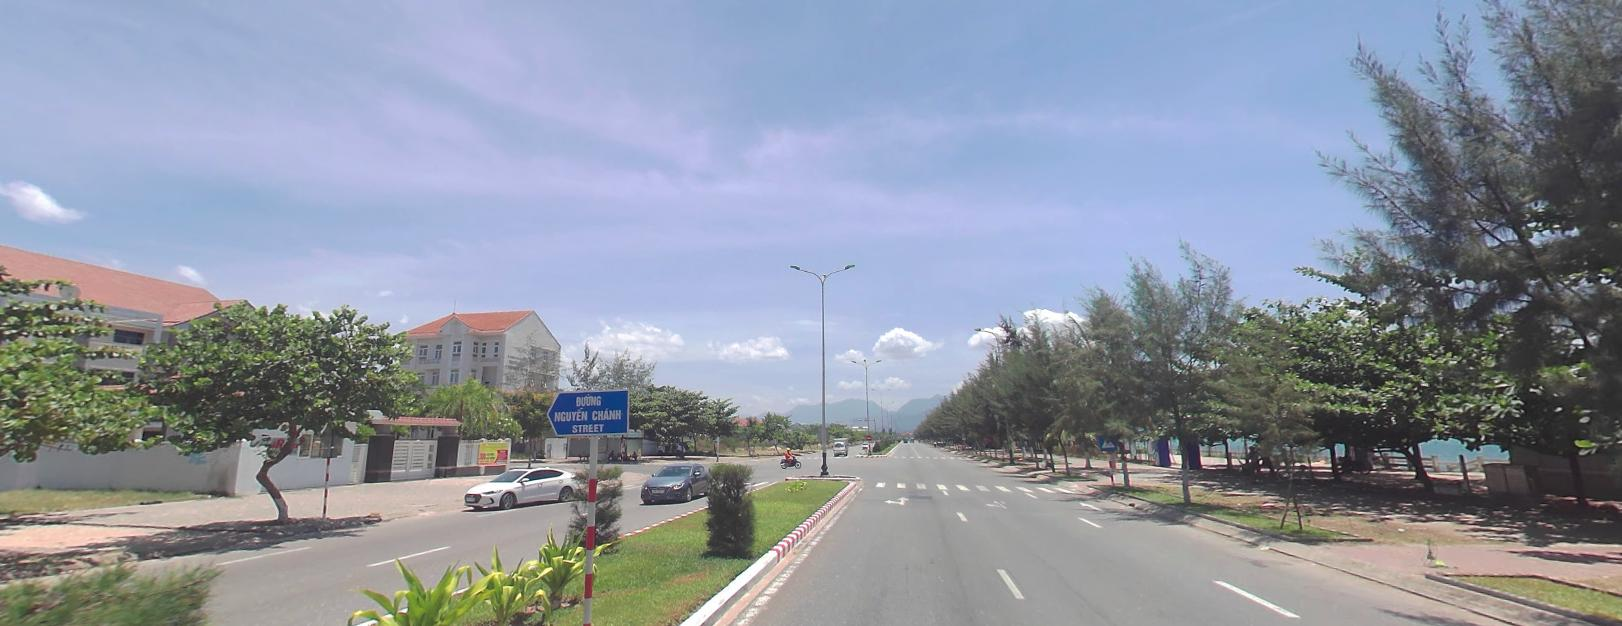Cam nguoc chieu: (865, 433, 871, 438)
